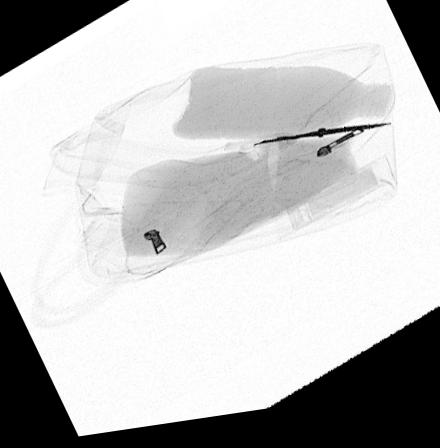Scissors: (224, 134, 389, 163)
